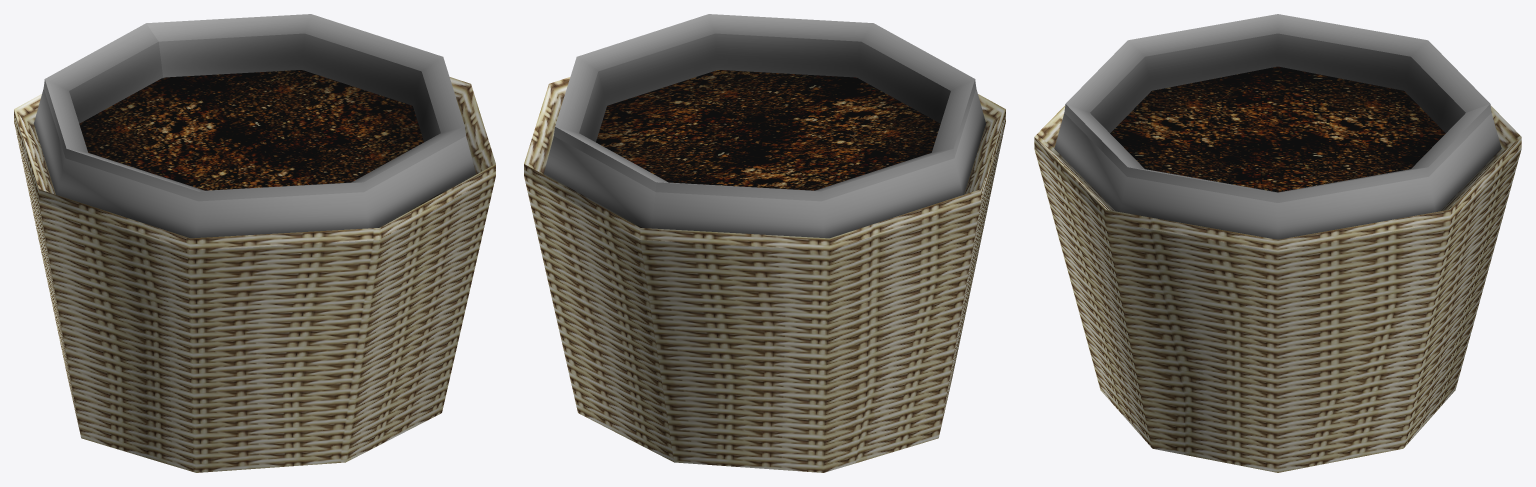
The picture shows the model from 3 angles, left to right: view 1: azimuth 30°, elevation 25°; view 2: azimuth 150°, elevation 25°; view 3: azimuth 270°, elevation 25°; orthographic projection. The views are drawn at different scales.
Visible parts, largest first — view 1: _Platpot_6_1; view 2: _Platpot_6_1; view 3: _Platpot_6_1.
Boxes of the visible parts, x1,y1,x2,y2 form: _Platpot_6_1: (14,14,495,472); _Platpot_6_1: (524,14,1005,472); _Platpot_6_1: (1034,14,1521,472).
Size of the model in its own units: 201 by 131 by 201.
